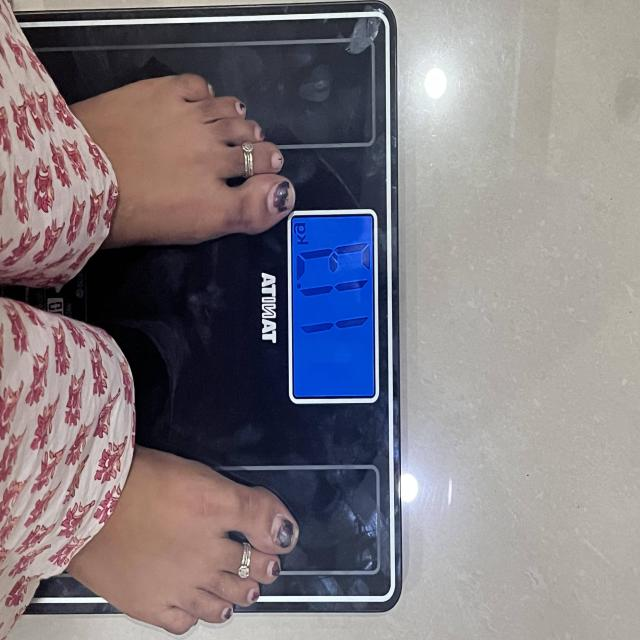ws: (285, 209, 381, 408)
